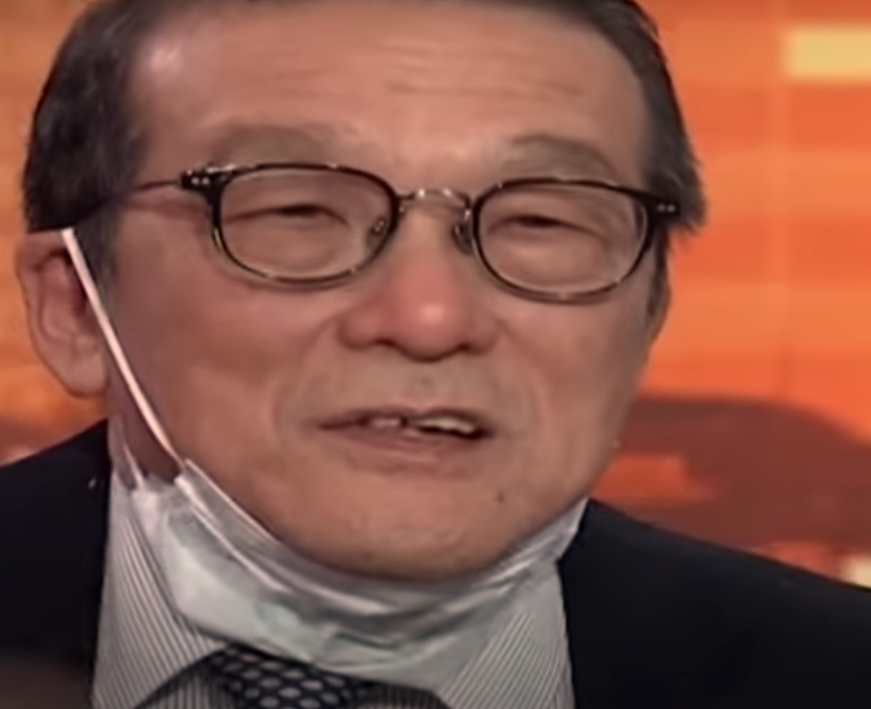mask_weared_incorrect: (3, 6, 701, 695)
